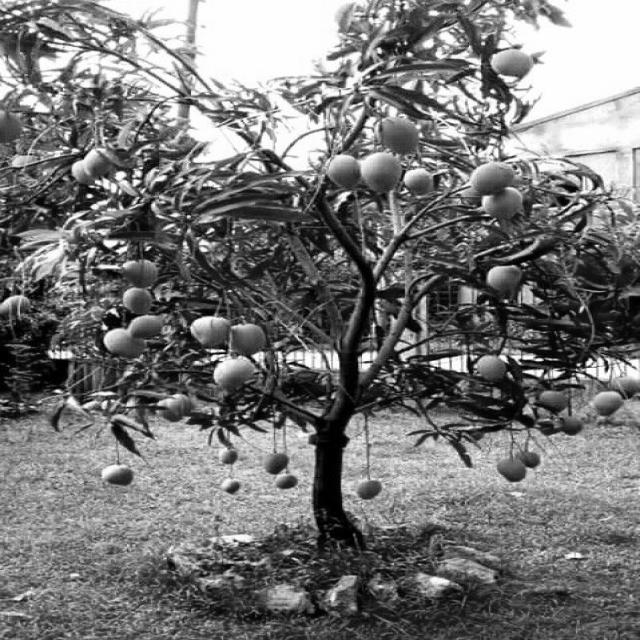Mango-Tree: (74, 54, 608, 589)
